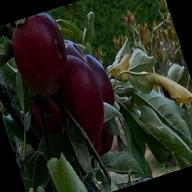Apples: (4, 9, 79, 103), (50, 48, 113, 138), (85, 48, 119, 109), (62, 36, 89, 70)
